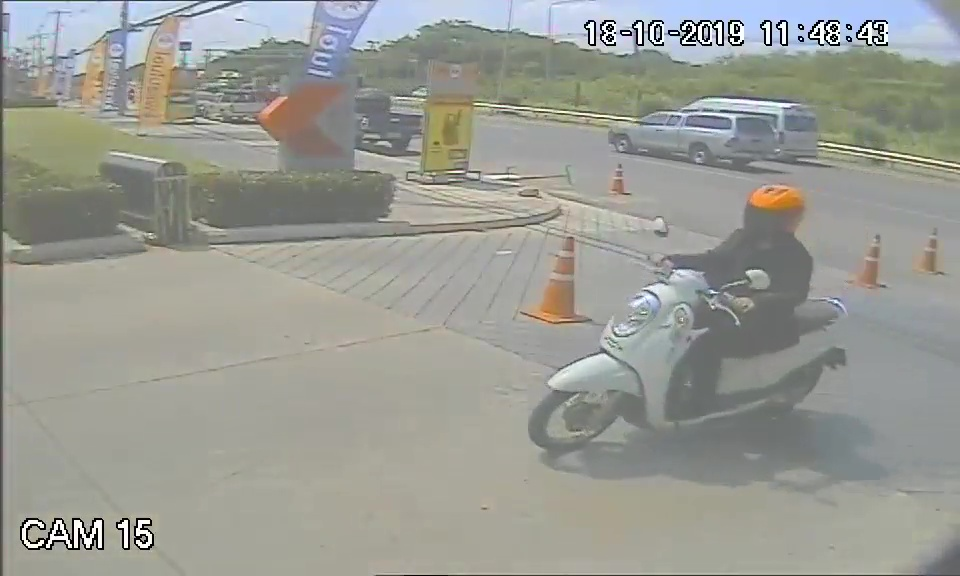motorcycle: (527, 270, 855, 461)
